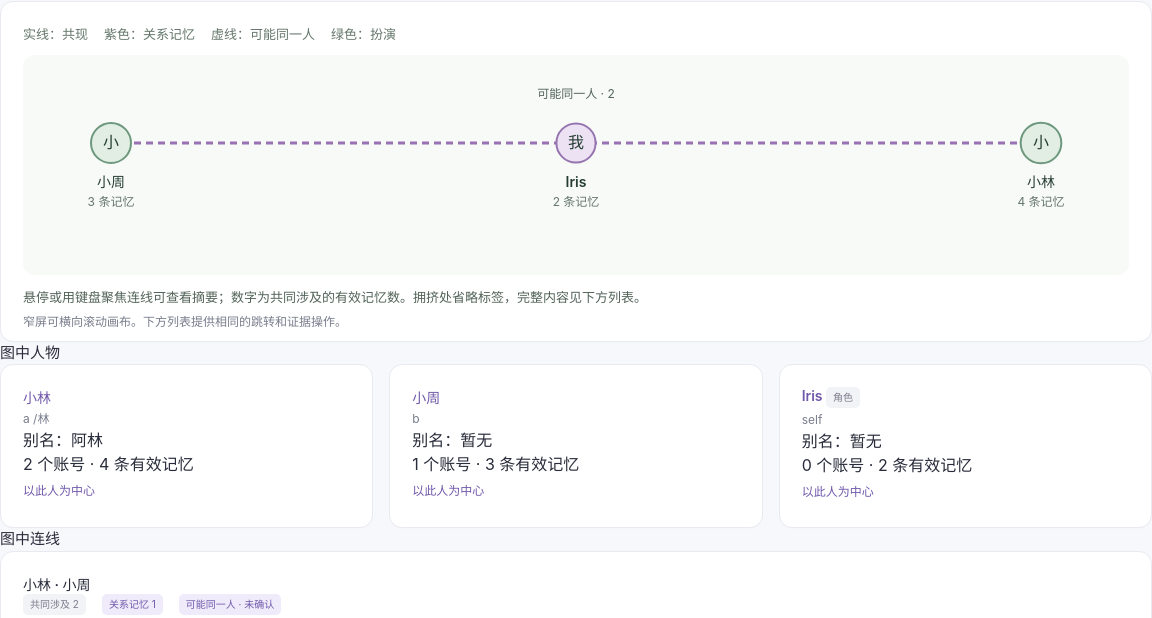
truncation explains totals and focus can be changed from a node
This screenshot has width=1152, height=618.
(page scrolled)
Click the button with aria-label "聚焦小周".
click(448, 490)  # box 412,475 -> 484,504
(page scrolled)
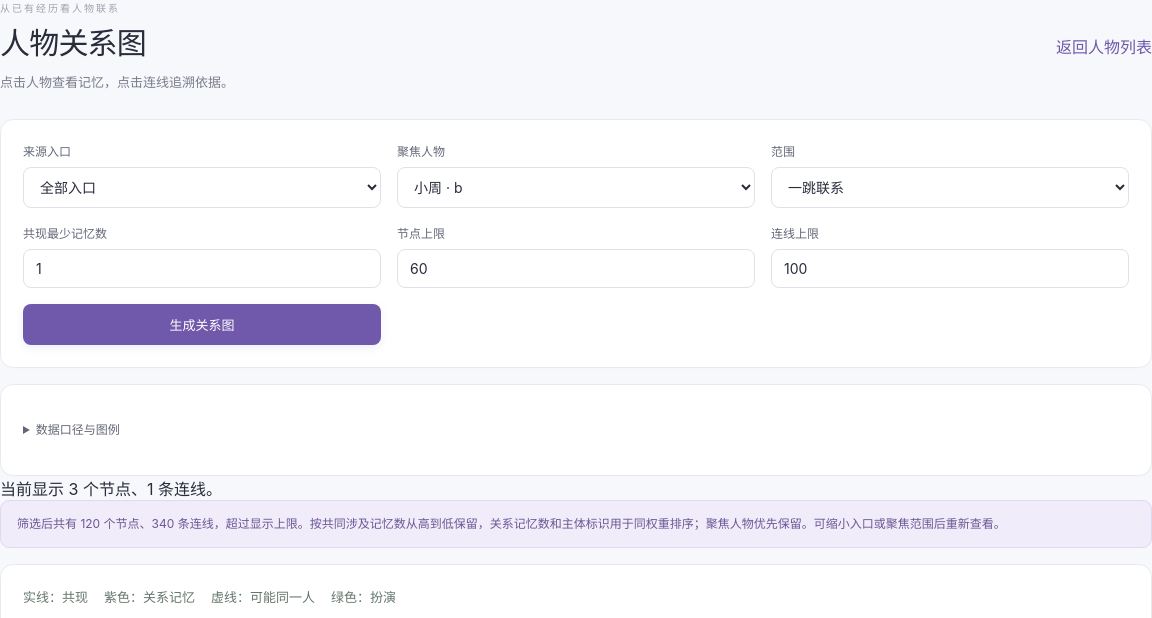
Check: the dropdown labelled "聚焦人物" shows "小周 · b", box 397,167 -> 755,208
